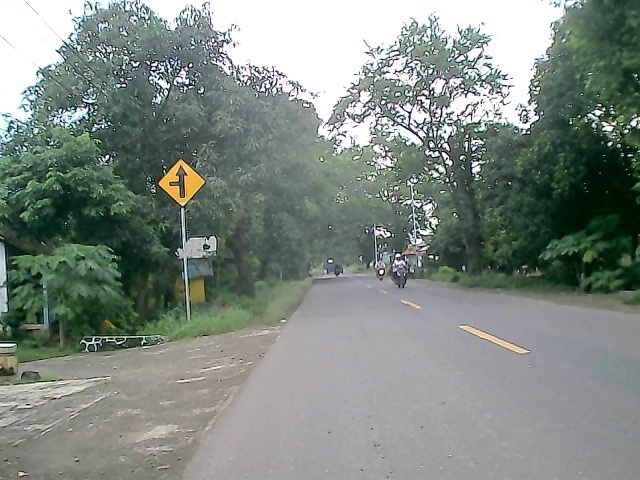Simpang kiri dengan prioritas: (157, 156, 208, 208)
